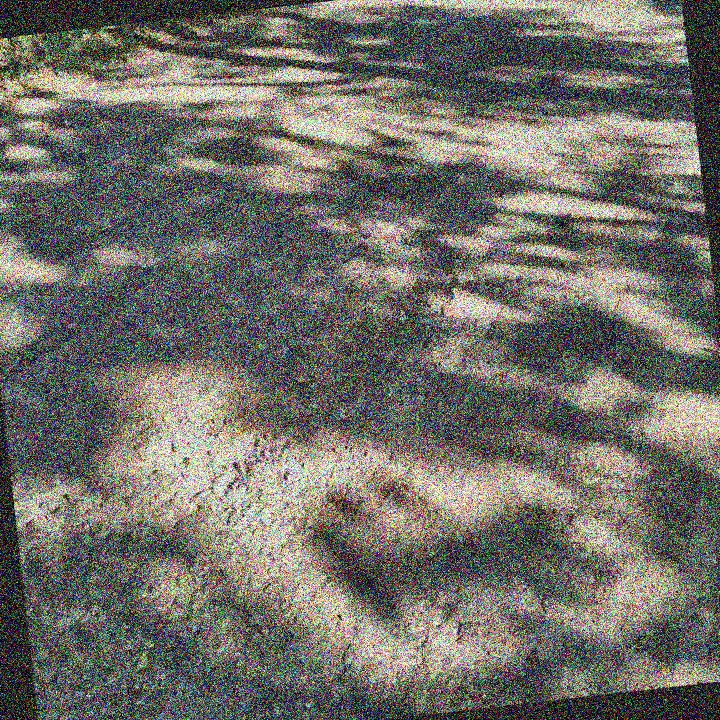pothole: (230, 225, 479, 452)
